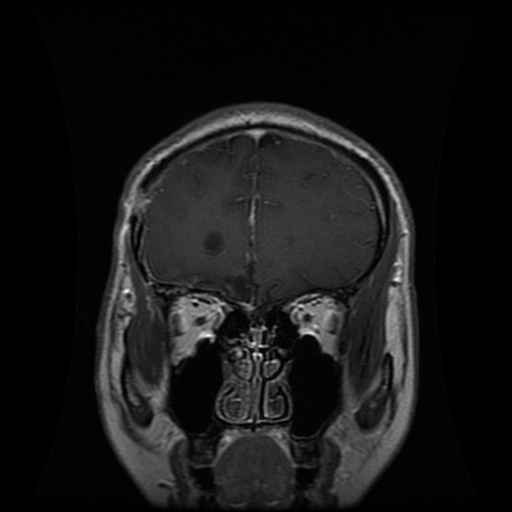glioma: (200, 227, 228, 255)
